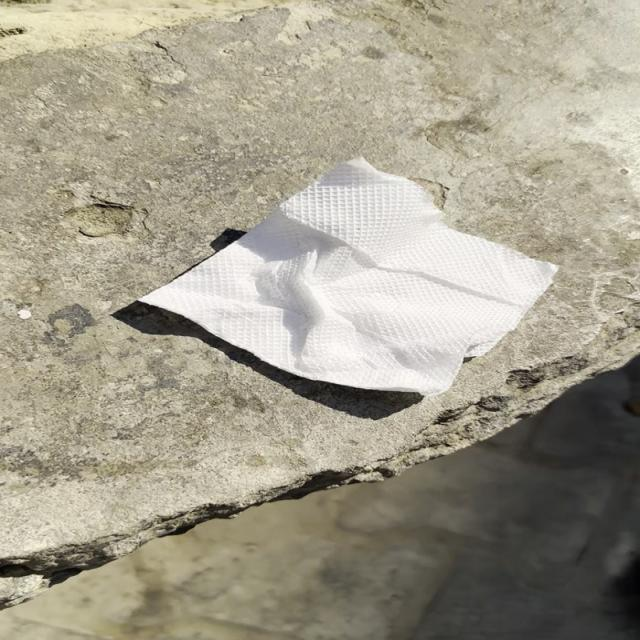tissue: (134, 159, 556, 397)
